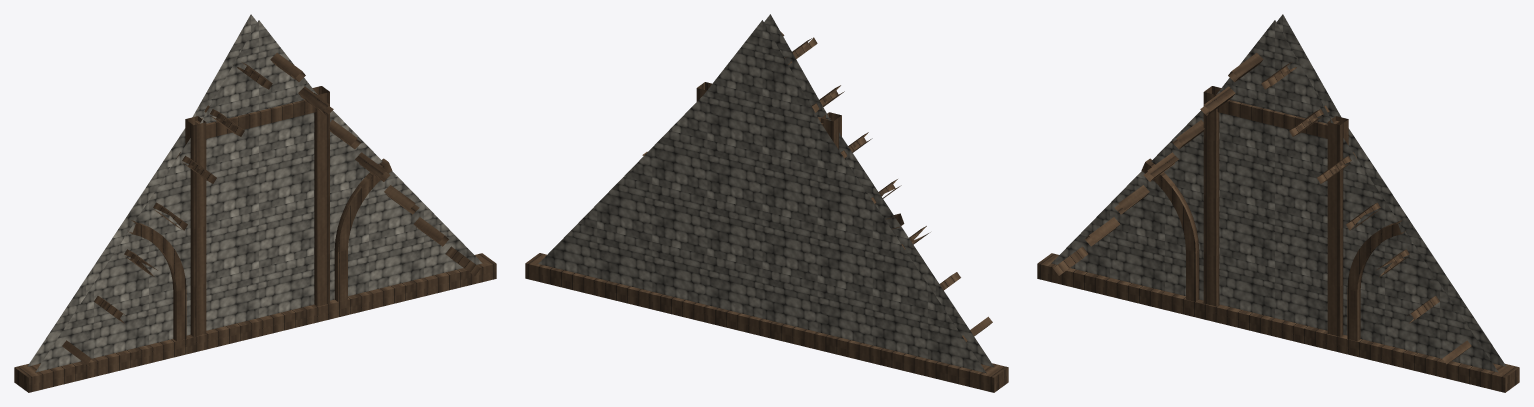
Rendered from Roof_Front_DryStone8_LOD2.gltf.
3 views of the same model, side by side, from view 1: azimuth 30°, elevation 25°; view 2: azimuth 150°, elevation 25°; view 3: azimuth 330°, elevation 25° (orthographic).
Parts seen in each view (by area): view 1: Roof_Front_DryStone8_LOD2; view 2: Roof_Front_DryStone8_LOD2; view 3: Roof_Front_DryStone8_LOD2.
Boxes of the visible parts, x1,y1,x2,y2 form: Roof_Front_DryStone8_LOD2: (14, 14, 496, 392); Roof_Front_DryStone8_LOD2: (525, 14, 1008, 392); Roof_Front_DryStone8_LOD2: (1037, 14, 1519, 392).
Bounding box in the file's own units: 8.51 × 5.45 × 1.13.
Materials: 2 (2 with a texture image).
